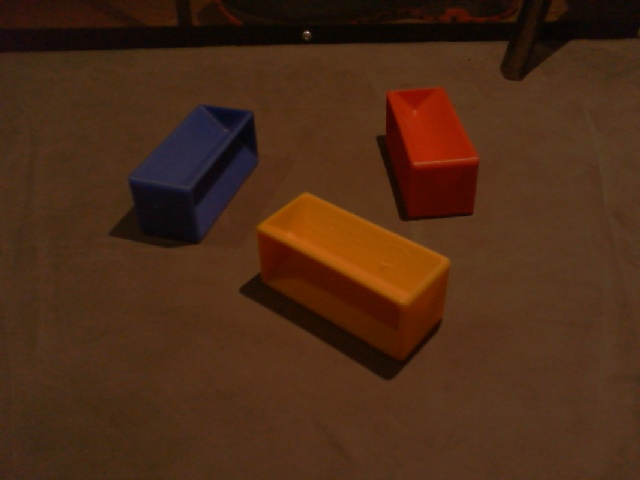BlueSample: (126, 102, 260, 245)
RedSample: (384, 84, 479, 220)
YellowSample: (258, 189, 450, 362)
